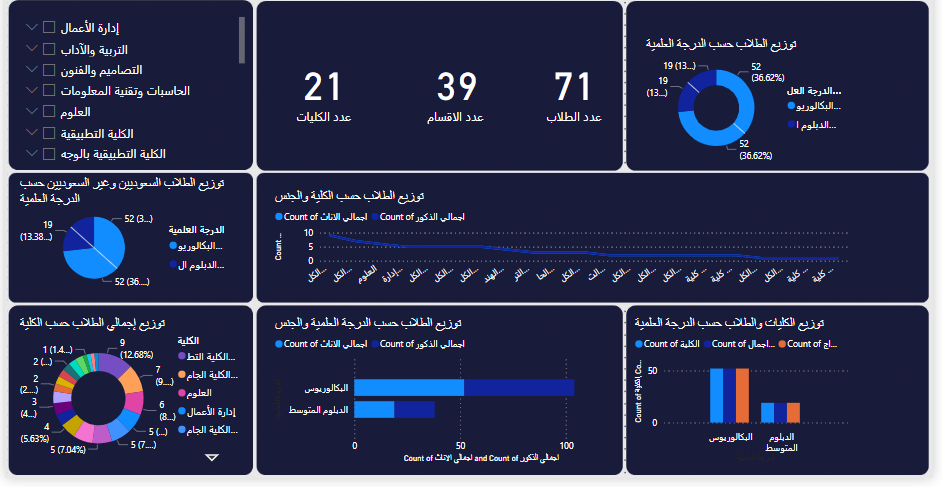

The page's visual inventory and layout, read from the dashboard file:
{"tool":"powerbi","page":{"name":"Page 1","canvas":[1280,720],"ordinal":0},"visuals":[{"type":"donutChart","title":"توزيع إجمالي الطلاب حسب الكلية","fields":{"Category":["Statistics of graduate undergraduate students csv.الكلية"],"Y":["CountNonNull(Statistics of graduate undergraduate students csv.الاجمالي)"]},"box":[16,496,320,208],"z":0},{"type":"slicer","fields":{"Values":["Statistics of graduate undergraduate students csv.الكلية","Statistics of graduate undergraduate students csv.التخصص","Statistics of graduate undergraduate students csv.القسم"]},"box":[16,80,320,208],"z":1000},{"type":"card","fields":{"Values":["Count(Statistics of graduate undergraduate students csv.القسم)"]},"box":[528,80,192,208],"z":2000},{"type":"card","fields":{"Values":["Count(Statistics of graduate undergraduate students csv.الكلية)"]},"box":[352,80,176,208],"z":3000},{"type":"card","fields":{"Values":["CountNonNull(Statistics of graduate undergraduate students csv.الاجمالي)"]},"box":[720,80,128,208],"z":4000},{"type":"pieChart","title":"توزيع الطلاب السعوديين وغير السعوديين حسب الدرجة العلمية","fields":{"Y":["CountNonNull(Statistics of graduate undergraduate students csv.مجموع غير السعوديين)","CountNonNull(Statistics of graduate undergraduate students csv.مجموع السعوديين)"],"Category":["Statistics of graduate undergraduate students csv.الدرجة العلمية"]},"box":[16,304,304,160],"z":5000},{"type":"barChart","title":"توزيع الطلاب حسب الدرجة العلمية والجنس","fields":{"Category":["Statistics of graduate undergraduate students csv.الدرجة العلمية"],"Y":["CountNonNull(Statistics of graduate undergraduate students csv.اجمالي الاناث)","CountNonNull(Statistics of graduate undergraduate students csv.اجمالي الذكور)"]},"box":[368,496,480,208],"z":6000},{"type":"lineChart","title":"توزيع الطلاب حسب الكلية والجنس","fields":{"Category":["Statistics of graduate undergraduate students csv.الكلية"],"Y":["CountNonNull(Statistics of graduate undergraduate students csv.اجمالي الاناث)","CountNonNull(Statistics of graduate undergraduate students csv.اجمالي الذكور)"]},"box":[368,320,800,144],"z":7000},{"type":"donutChart","title":"توزيع الطلاب حسب الدرجة العلمية","fields":{"Category":["Statistics of graduate undergraduate students csv.الدرجة العلمية"],"Y":["CountNonNull(Statistics of graduate undergraduate students csv.اجمالي الاناث)","CountNonNull(Statistics of graduate undergraduate students csv.اجمالي الذكور)"]},"box":[880,112,288,176],"z":8000},{"type":"clusteredColumnChart","title":"توزيع الكليات والطلاب حسب الدرجة العلمية","fields":{"Category":["Statistics of graduate undergraduate students csv.الدرجة العلمية"],"Y":["CountNonNull(Statistics of graduate undergraduate students csv.الكلية)","CountNonNull(Statistics of graduate undergraduate students csv.اجمالي الذكور)","CountNonNull(Statistics of graduate undergraduate students csv.اجمالي الاناث)"]},"box":[864,496,304,208],"z":9000}]}

Visuals, with their boxes in screenshot pixels (x1, y1, x2, y2):
"توزيع إجمالي الطلاب حسب الكلية" donutChart: (x1=24, y1=325, x2=254, y2=474)
slicer - Statistics of graduate undergraduate students csv.الكلية x Statistics of graduate undergraduate students csv.التخصص: (x1=24, y1=26, x2=254, y2=175)
card - Count(Statistics of graduate undergraduate students csv.القسم): (x1=392, y1=26, x2=530, y2=175)
card - Count(Statistics of graduate undergraduate students csv.الكلية): (x1=265, y1=26, x2=392, y2=175)
card - CountNonNull(Statistics of graduate undergraduate students csv.الاجمالي): (x1=530, y1=26, x2=622, y2=175)
"توزيع الطلاب السعوديين وغير السعوديين حسب الدرجة العلمية" pieChart: (x1=24, y1=187, x2=242, y2=302)
"توزيع الطلاب حسب الدرجة العلمية والجنس" barChart: (x1=277, y1=325, x2=622, y2=474)
"توزيع الطلاب حسب الكلية والجنس" lineChart: (x1=277, y1=198, x2=852, y2=302)
"توزيع الطلاب حسب الدرجة العلمية" donutChart: (x1=645, y1=49, x2=852, y2=175)
"توزيع الكليات والطلاب حسب الدرجة العلمية" clusteredColumnChart: (x1=633, y1=325, x2=852, y2=474)
